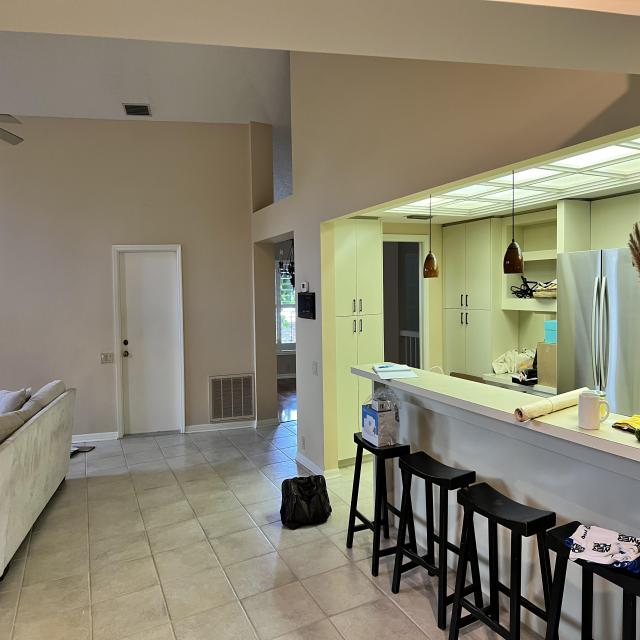Appliance_Fridge: (557, 249, 640, 417)
Cabinet_Flat: (335, 219, 384, 461), (442, 217, 501, 377)
Countertop_Laminate: (350, 363, 640, 463)
